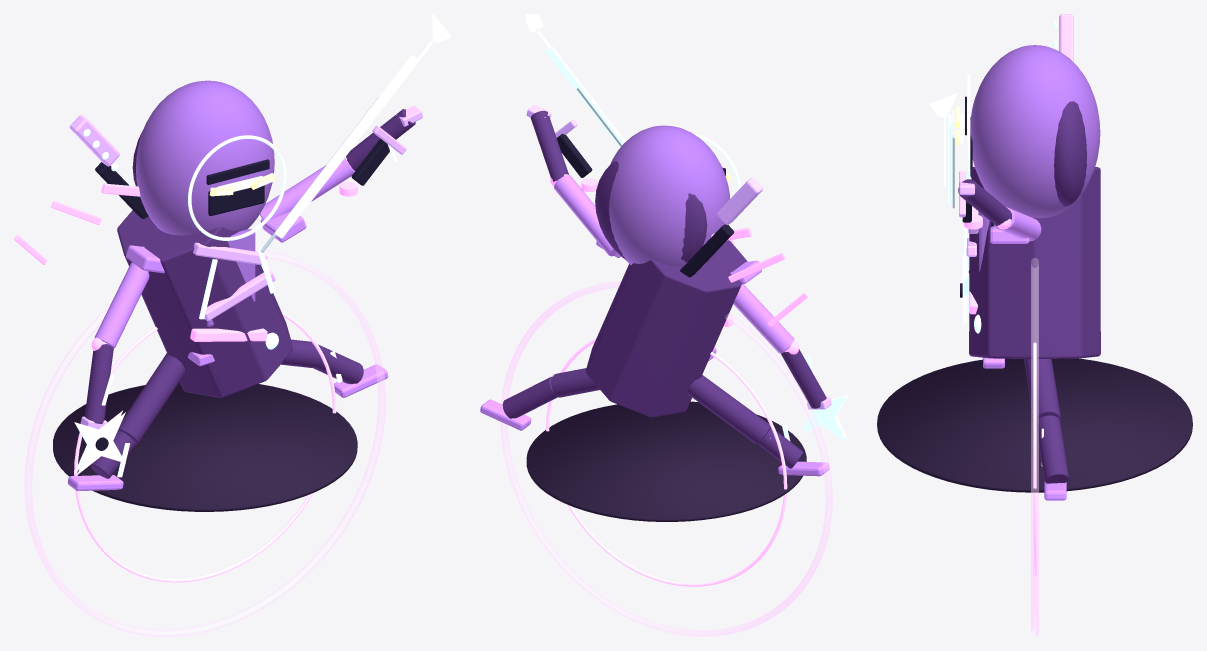
Rendered from blade_ninja.glb.
The picture shows the model from 3 angles, left to right: view 1: azimuth 30°, elevation 25°; view 2: azimuth 150°, elevation 25°; view 3: azimuth 270°, elevation 25°; orthographic projection. The views are drawn at different scales.
Parts seen in each view (by area): view 1: BLADE_PlatformShadow, BLADE_Body, BLADE_Hood, BLADE_Aura, BLADE_LeftThigh, BLADE_Aura_Inner, BLADE_LeftUpperArm, BLADE_SwordBlade, BLADE_LeftLowerArm, BLADE_RightUpperArm, BLADE_ShadowShuriken, BLADE_HoodCyanRim (+17 smaller); view 2: BLADE_PlatformShadow, BLADE_Body, BLADE_Hood, BLADE_Aura, BLADE_HoodBackFlare, BLADE_LeftThigh, BLADE_Aura_Inner, BLADE_LeftUpperArm, BLADE_RightUpperArm, BLADE_RightLowerArm, BLADE_RightShin, BLADE_LeftLowerArm (+9 smaller); view 3: BLADE_PlatformShadow, BLADE_Body, BLADE_Hood, BLADE_Aura, BLADE_HoodBackFlare, BLADE_RightShin, BLADE_RightThigh, BLADE_RightLowerArm, BLADE_Aura_Inner, BLADE_RightUpperArm, BLADE_BackSwordGrip, BLADE_ShadowShuriken.
Part boxes in pixels (left/top/right/bottom): BLADE_PlatformShadow: left=53, top=382, right=357, bottom=511; BLADE_Body: left=117, top=210, right=292, bottom=397; BLADE_Hood: left=136, top=80, right=274, bottom=235; BLADE_Aura: left=24, top=250, right=385, bottom=636; BLADE_LeftThigh: left=118, top=353, right=185, bottom=444; BLADE_Aura_Inner: left=74, top=312, right=336, bottom=582; BLADE_LeftUpperArm: left=94, top=246, right=149, bottom=347; BLADE_SwordBlade: left=275, top=55, right=416, bottom=238; BLADE_LeftLowerArm: left=84, top=344, right=113, bottom=423; BLADE_RightUpperArm: left=259, top=158, right=354, bottom=220; BLADE_ShadowShuriken: left=74, top=410, right=125, bottom=474; BLADE_HoodCyanRim: left=188, top=135, right=286, bottom=240; BLADE_PlatformShadow: left=526, top=401, right=806, bottom=521; BLADE_Body: left=586, top=240, right=747, bottom=417; BLADE_Hood: left=609, top=125, right=729, bottom=267; BLADE_Aura: left=500, top=281, right=832, bottom=636; BLADE_HoodBackFlare: left=595, top=161, right=707, bottom=262; BLADE_LeftThigh: left=687, top=375, right=770, bottom=444; BLADE_Aura_Inner: left=546, top=338, right=787, bottom=586; BLADE_LeftUpperArm: left=730, top=272, right=794, bottom=353; BLADE_RightUpperArm: left=554, top=175, right=616, bottom=256; BLADE_RightLowerArm: left=530, top=110, right=568, bottom=181; BLADE_RightShin: left=502, top=376, right=557, bottom=418; BLADE_LeftLowerArm: left=780, top=349, right=826, bottom=408; BLADE_PlatformShadow: left=877, top=358, right=1192, bottom=492; BLADE_Body: left=969, top=167, right=1100, bottom=359; BLADE_Hood: left=970, top=45, right=1100, bottom=218; BLADE_Aura: left=1031, top=258, right=1038, bottom=636; BLADE_HoodBackFlare: left=1054, top=101, right=1087, bottom=206; BLADE_RightShin: left=1036, top=415, right=1068, bottom=483; BLADE_RightThigh: left=1024, top=359, right=1060, bottom=421; BLADE_RightLowerArm: left=958, top=179, right=1011, bottom=226; BLADE_Aura_Inner: left=1033, top=342, right=1036, bottom=576; BLADE_RightUpperArm: left=993, top=207, right=1041, bottom=241; BLADE_BackSwordGrip: left=1059, top=14, right=1073, bottom=61; BLADE_ShadowShuriken: left=962, top=252, right=968, bottom=329.
Size of the model in its own units: 2.88 by 4.33 by 2.
